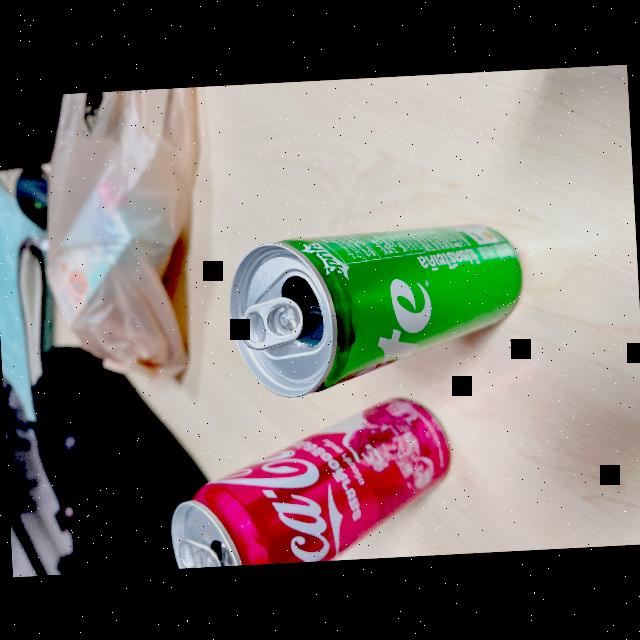can: (210, 196, 540, 414), (158, 384, 470, 568)
